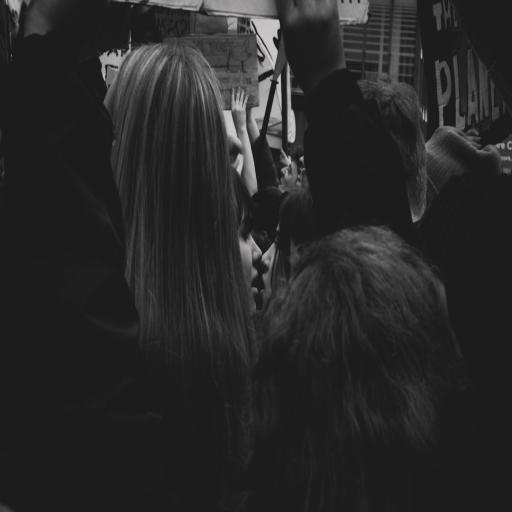face: (261, 219, 292, 319), (230, 215, 260, 316), (272, 156, 300, 190)
